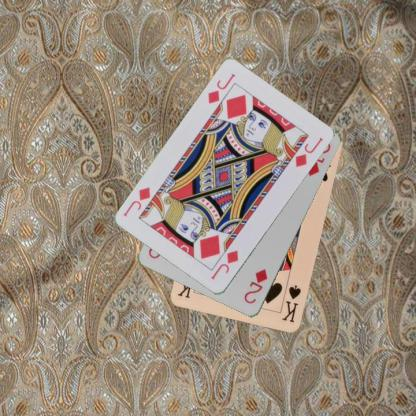2d: (242, 266, 269, 306)
Jd: (205, 71, 237, 106), (208, 248, 240, 282)
Ks: (279, 283, 303, 324)
